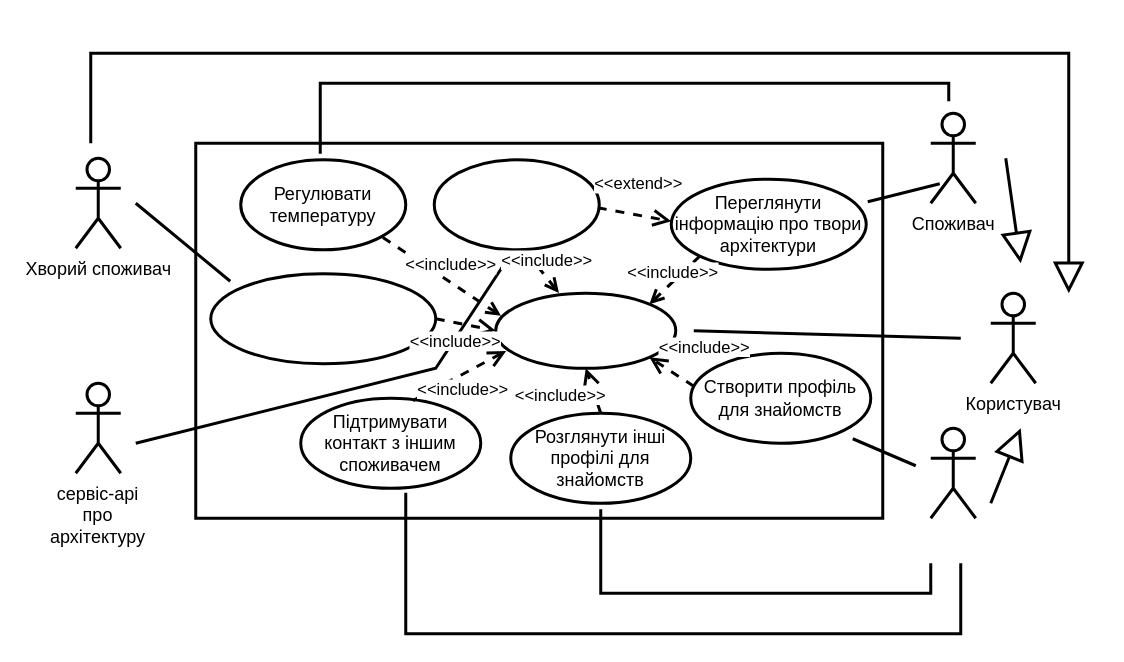
This 1124x662 diagram has some shape labels left out. The shapes that lost their labels are listed below. From the top down, each one's box as (x1, y1, x2, y2) in pixels, then its label:
(432, 158, 600, 250): Отримати інформації про архітектуру
(208, 272, 436, 364): Отримати інструкцію для покращення стану здоров'я
(494, 291, 676, 369): Авторизувати користувача
(928, 426, 976, 519): Самотній споживач
